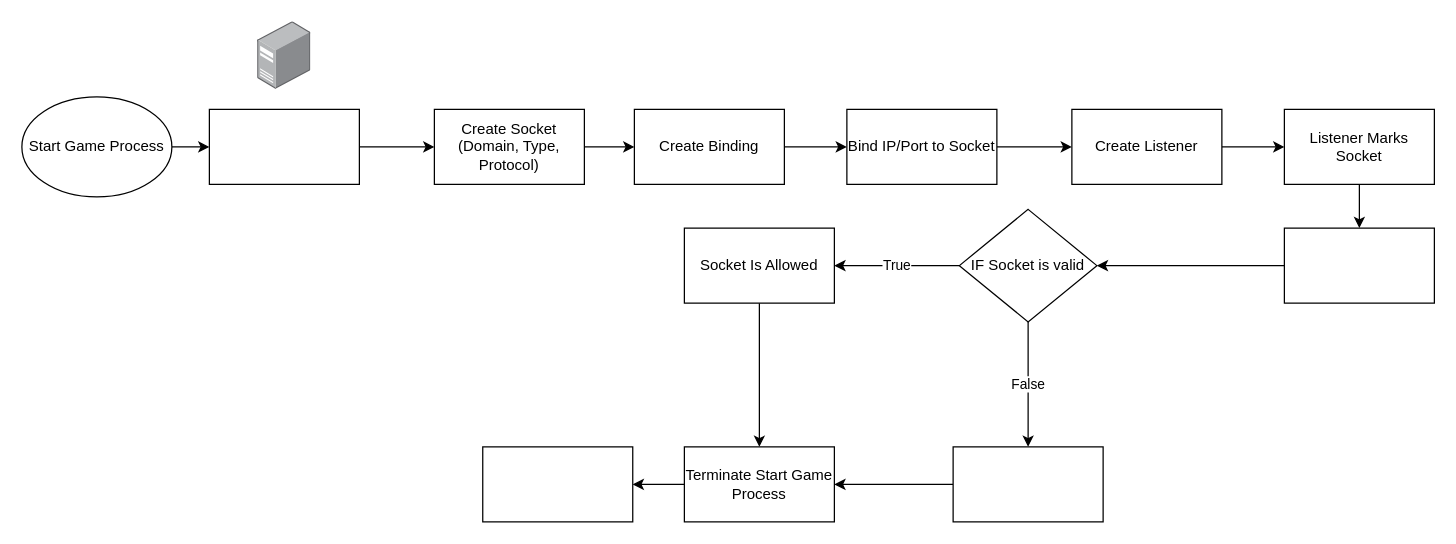
The diagram is 1456 pixels wide and 544 high, and some of its shapes have lost their labels. The shapes that lost their labels are listed below. From the top down, each one's box as (x1, y1, x2, y2) in pixels, then its label:
(208, 108, 359, 184): Start Server
(1283, 227, 1434, 303): Create Acceptor
(482, 446, 633, 522): Loop Start GameProcess until server is disconnected
(952, 446, 1103, 522): Socket Is Denyed
